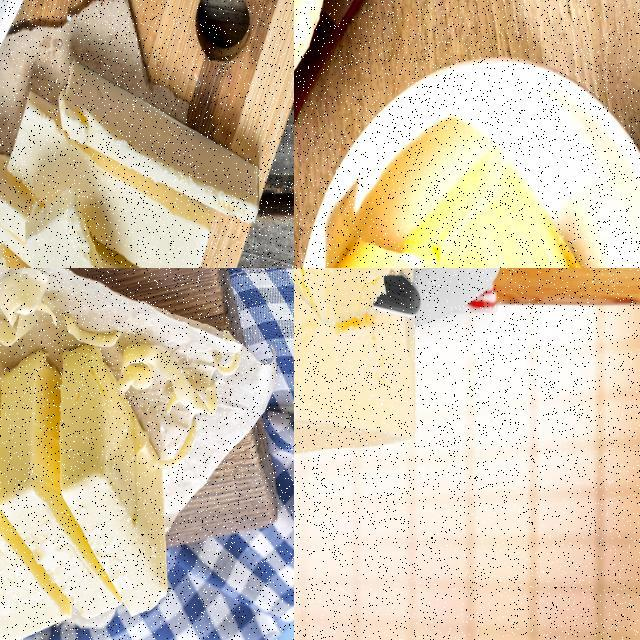Butter: (0, 34, 263, 267), (0, 353, 171, 639), (332, 143, 597, 267), (294, 268, 416, 462), (294, 268, 436, 328)
